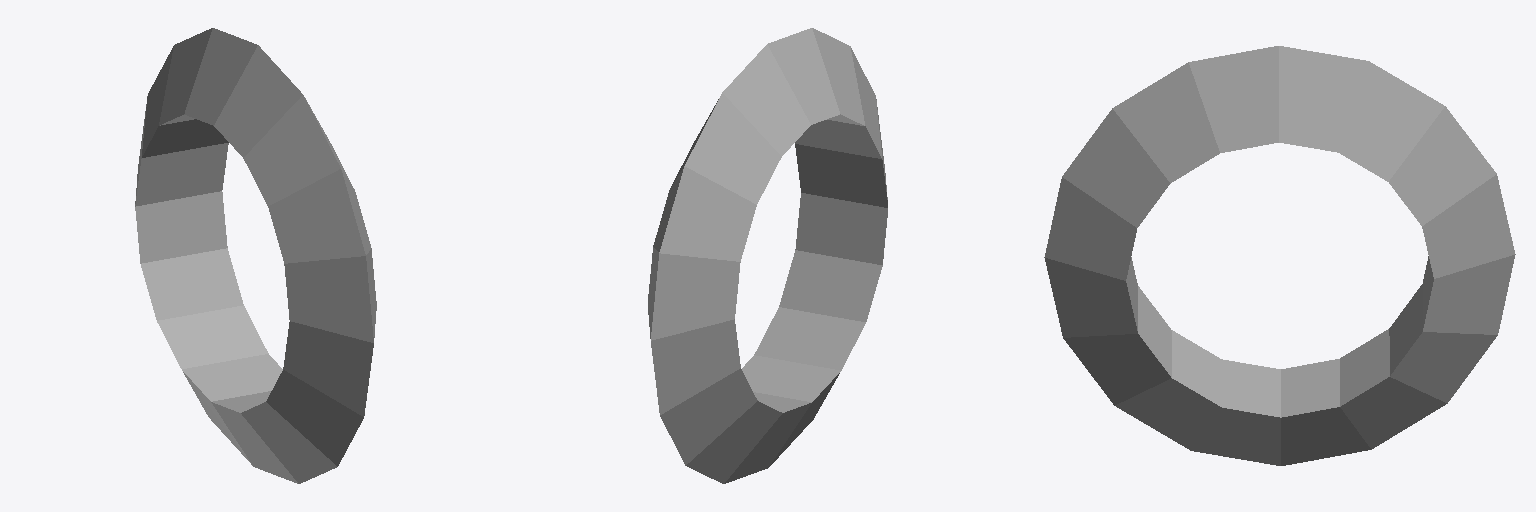
The model's file is Ring.obj.
3 views of the same model, side by side, from view 1: azimuth 30°, elevation 25°; view 2: azimuth 150°, elevation 25°; view 3: azimuth 270°, elevation 25° (orthographic).
Parts seen in each view (by area): view 1: DrawCall_0757; view 2: DrawCall_0757; view 3: DrawCall_0757.
Boxes of the visible parts, box(x1,y1,x2,y2) form: DrawCall_0757: box(135, 28, 376, 483); DrawCall_0757: box(648, 28, 887, 483); DrawCall_0757: box(1044, 46, 1515, 465).
Bounding box in the file's own units: 1.21 × 5.45 × 5.51.